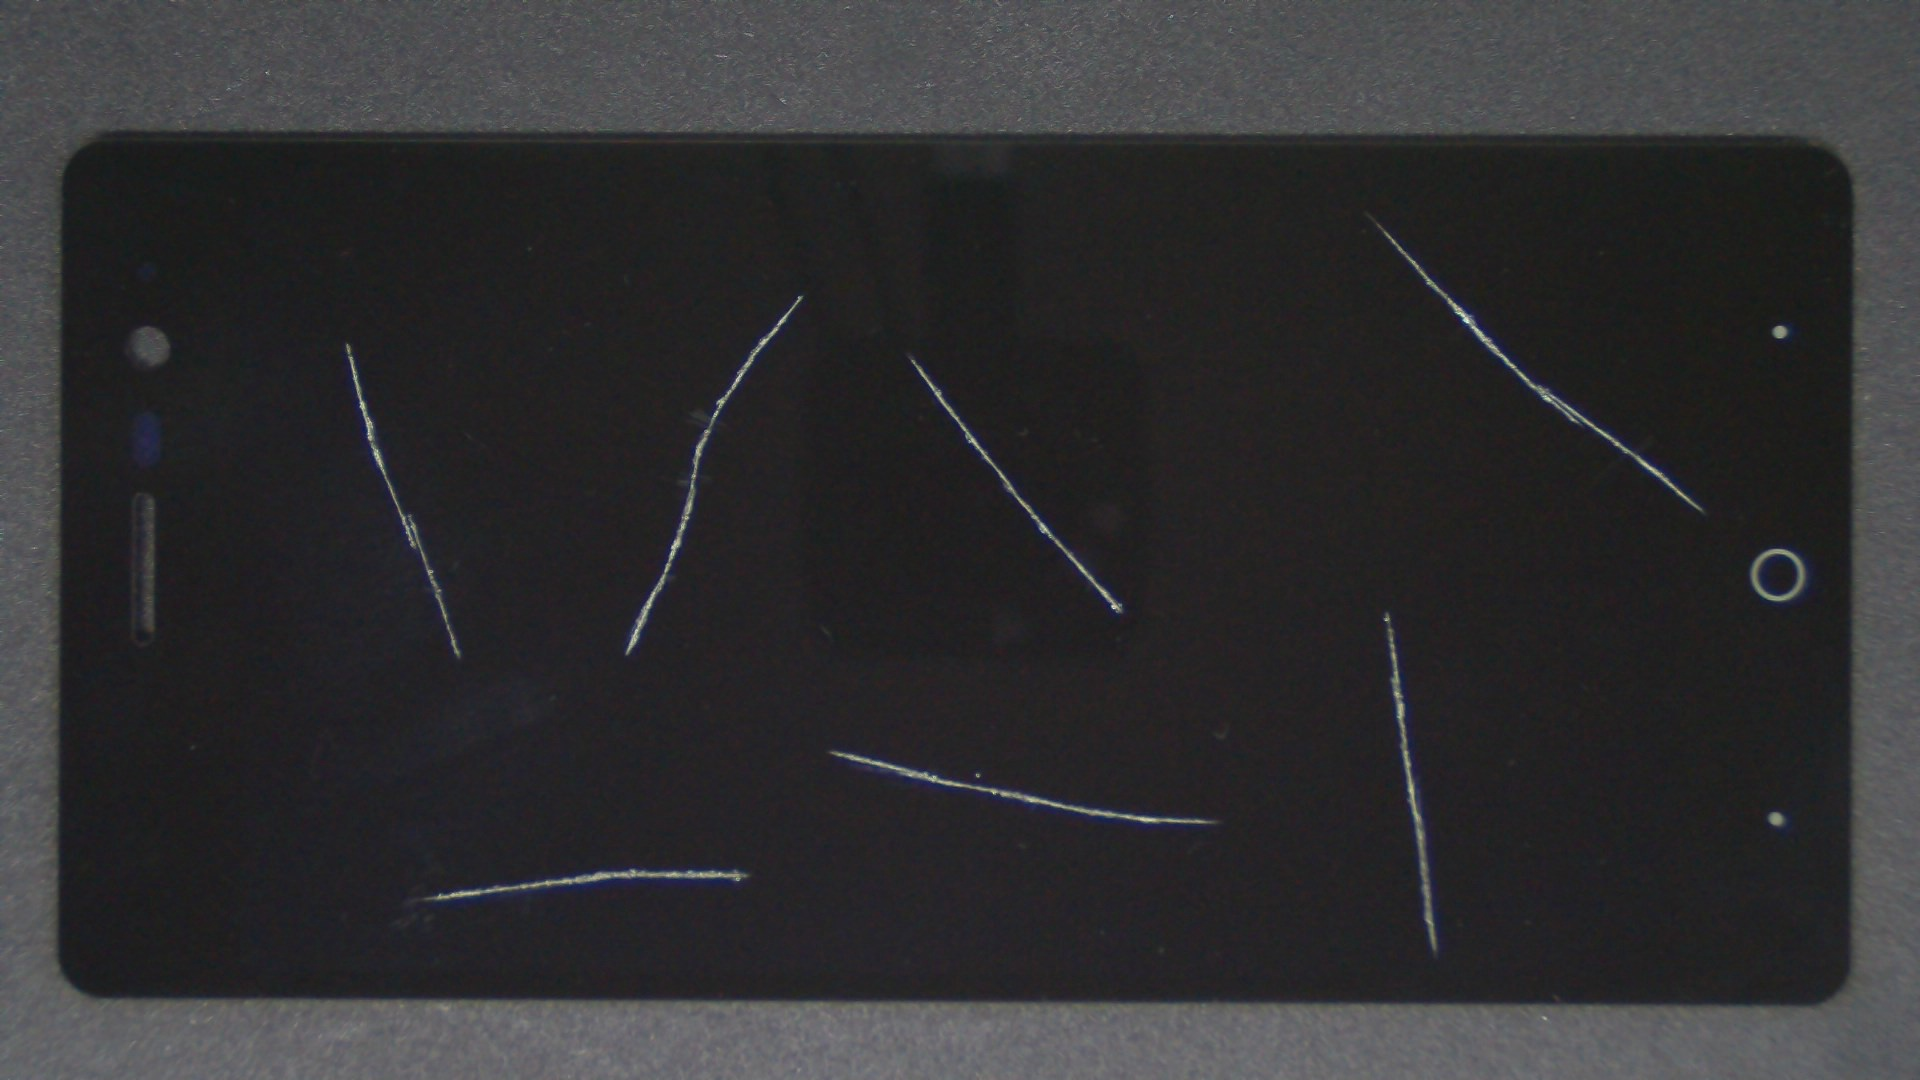oil: (694, 305, 1920, 916), (415, 373, 1245, 1080), (316, 433, 949, 1080), (456, 177, 1364, 534), (682, 104, 1920, 318), (402, 146, 1205, 442), (174, 170, 520, 512)
